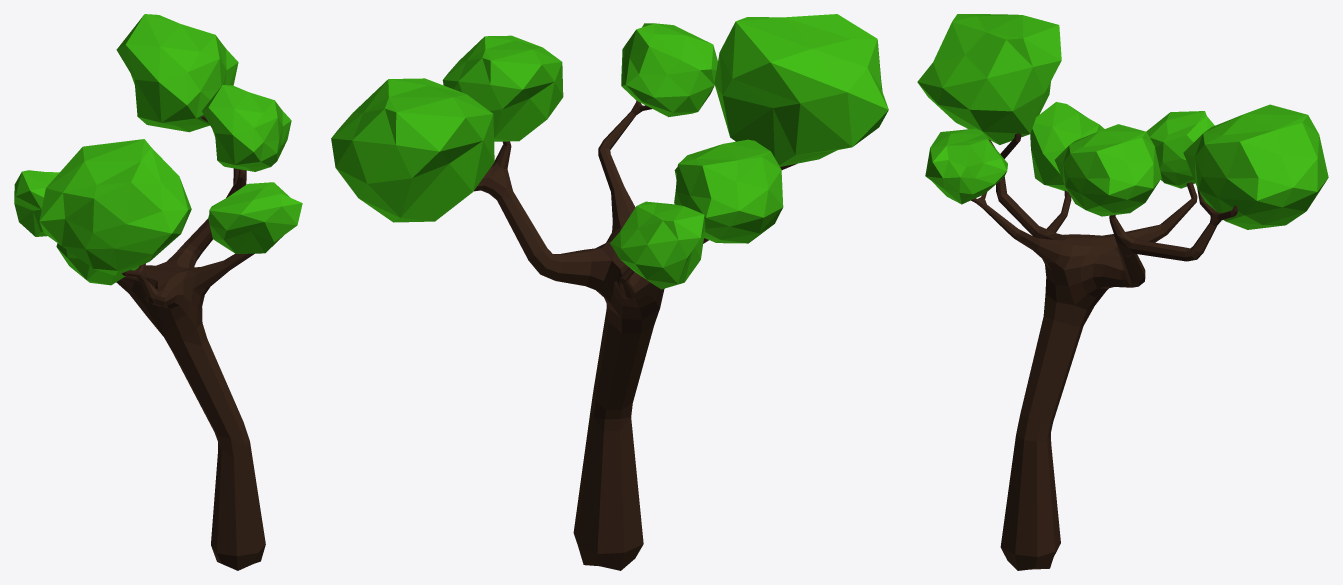
File: Tree1.1.obj
3 renders of one model, left to right at view 1: azimuth 30°, elevation 25°; view 2: azimuth 150°, elevation 25°; view 3: azimuth 270°, elevation 25°, orthographic. The views are drawn at different scales.
Parts seen in each view (by area): view 1: Tree1.1_Icosphere.005; view 2: Tree1.1_Icosphere.005; view 3: Tree1.1_Icosphere.005.
Part boxes in pixels (x1=…): Tree1.1_Icosphere.005: x1=14, y1=14, x2=302, y2=570; Tree1.1_Icosphere.005: x1=331, y1=14, x2=888, y2=570; Tree1.1_Icosphere.005: x1=917, y1=14, x2=1328, y2=570.
Bounding box in the file's own units: 3.43 × 4.69 × 3.64.
